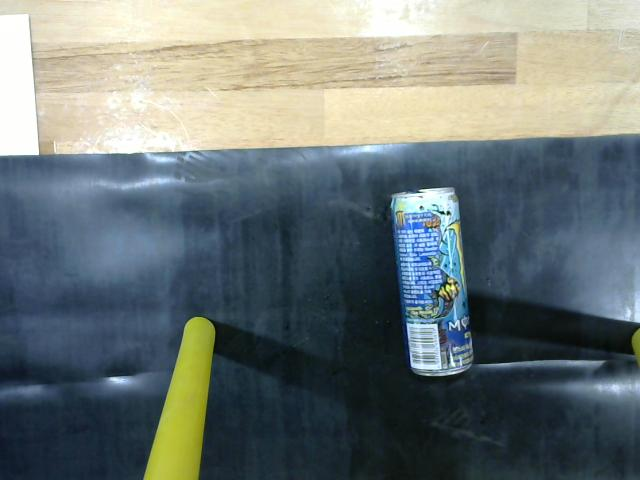can: (386, 180, 481, 386)
